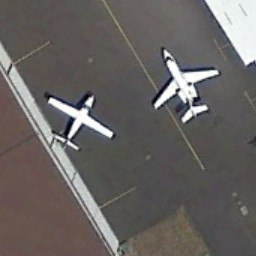Airplane: (142, 42, 226, 134), (43, 73, 118, 165)
